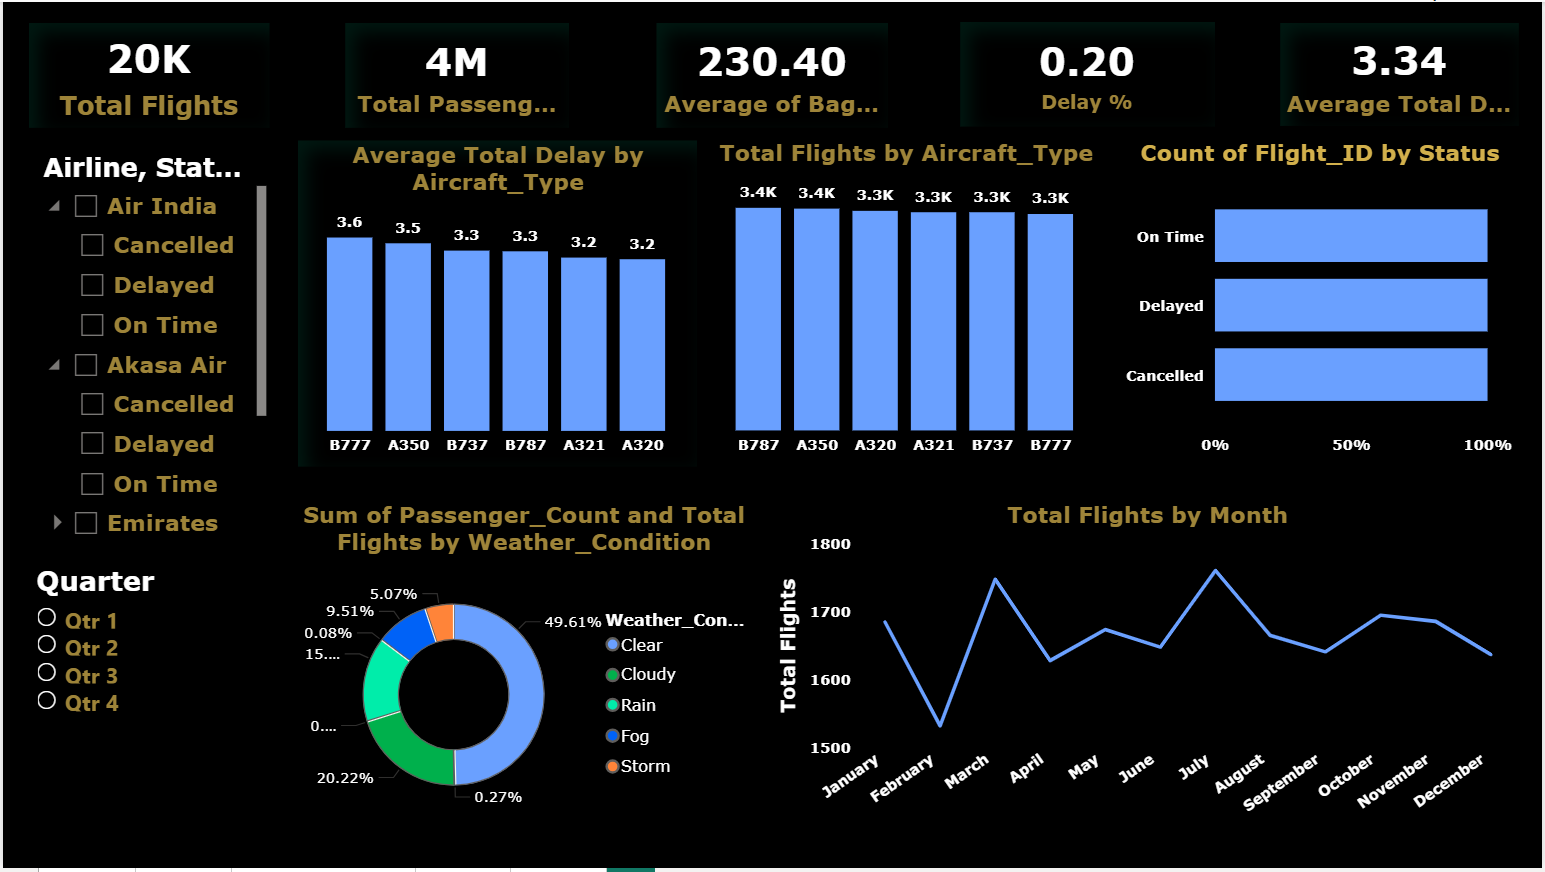

The page's visual inventory and layout, read from the dashboard file:
{"tool":"powerbi","page":{"name":"Day 18","canvas":[1280,720],"ordinal":3},"visuals":[{"type":"columnChart","fields":{"Category":["Airline_cleaned_dataset15.Aircraft_Type"],"Y":["Airline_cleaned_dataset15.Total Flights"]},"box":[584.1,113.3,332.6,273.3],"z":0},{"type":"lineChart","fields":{"Category":["Airline_cleaned_dataset15.Flight_Date.Variation.Date Hierarchy.Month"],"Y":["Airline_cleaned_dataset15.Total Flights"]},"box":[640.2,413.6,621.5,280.6],"z":1000},{"type":"hundredPercentStackedBarChart","fields":{"Category":["Airline_cleaned_dataset15.Status"],"Y":["CountNonNull(Airline_cleaned_dataset15.Flight_ID)"]},"box":[927,113.3,334.6,273.3],"z":2000},{"type":"columnChart","fields":{"Category":["Airline_cleaned_dataset15.Aircraft_Type"],"Y":["Airline_cleaned_dataset15.Average Total Delay"]},"box":[243.8,114,333.3,272.7],"z":3000},{"type":"donutChart","fields":{"Category":["Airline_cleaned_dataset15.Weather_Condition"],"Y":["Sum(Airline_cleaned_dataset15.Passenger_Count)","Airline_cleaned_dataset15.Total Flights"]},"box":[243.3,413.5,378.7,280.4],"z":4000},{"type":"card","fields":{"Values":["Airline_cleaned_dataset15.Total Flights"]},"box":[20.4,16.8,201.3,88.7],"z":5000},{"type":"card","fields":{"Values":["Airline_cleaned_dataset15.Total Passengers"]},"box":[284,16.8,188.2,88.7],"z":6000},{"type":"card","fields":{"Values":["Avg(Airline_cleaned_dataset15.Baggage_Count)"]},"box":[542.9,16.8,194.2,88.7],"z":7000},{"type":"card","fields":{"Values":["Airline_cleaned_dataset15.Average Total Delay"]},"box":[1060.7,16.8,200.1,87.5],"z":8000},{"type":"card","fields":{"Values":["Airline_cleaned_dataset15.Delay %"]},"box":[794.6,15.6,213.3,88.7],"z":9000},{"type":"slicer","fields":{"Values":["Airline_cleaned_dataset15.Airline","Airline_cleaned_dataset15.Status"]},"box":[20.2,118.3,204.9,337.6],"z":10000},{"type":"listSlicer","fields":{"Values":["Airline_cleaned_dataset15.Flight_Date.Variation.Date Hierarchy.Quarter"]},"box":[21.6,466.2,203.7,227.7],"z":11000}]}

Visuals, with their boxes in screenshot pixels (x1, y1, x2, y2), scaled from the page's 1280x720 canvas onto the 1545x872 screenshot:
columnChart - Airline_cleaned_dataset15.Aircraft_Type x Airline_cleaned_dataset15.Total Flights: bbox=[705, 137, 1106, 468]
lineChart - Airline_cleaned_dataset15.Flight_Date.Variation.Date Hierarchy.Month x Airline_cleaned_dataset15.Total Flights: bbox=[773, 501, 1523, 841]
hundredPercentStackedBarChart - Airline_cleaned_dataset15.Status x CountNonNull(Airline_cleaned_dataset15.Flight_ID): bbox=[1119, 137, 1523, 468]
columnChart - Airline_cleaned_dataset15.Aircraft_Type x Airline_cleaned_dataset15.Average Total Delay: bbox=[294, 138, 697, 468]
donutChart - Airline_cleaned_dataset15.Weather_Condition x Sum(Airline_cleaned_dataset15.Passenger_Count): bbox=[294, 501, 751, 840]
card - Airline_cleaned_dataset15.Total Flights: bbox=[25, 20, 268, 128]
card - Airline_cleaned_dataset15.Total Passengers: bbox=[343, 20, 570, 128]
card - Avg(Airline_cleaned_dataset15.Baggage_Count): bbox=[655, 20, 890, 128]
card - Airline_cleaned_dataset15.Average Total Delay: bbox=[1280, 20, 1522, 126]
card - Airline_cleaned_dataset15.Delay %: bbox=[959, 19, 1217, 126]
slicer - Airline_cleaned_dataset15.Airline x Airline_cleaned_dataset15.Status: bbox=[24, 143, 272, 552]
listSlicer - Airline_cleaned_dataset15.Flight_Date.Variation.Date Hierarchy.Quarter: bbox=[26, 565, 272, 840]
